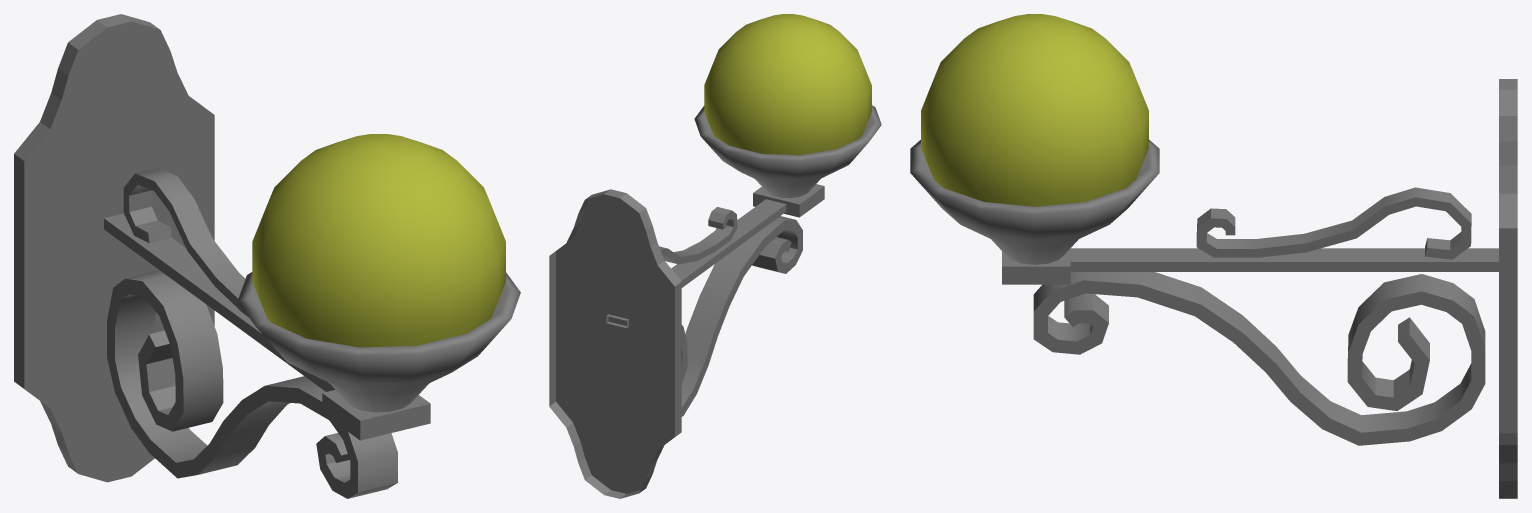
File: SM_lamp_wall_04.fbx
The picture shows the model from 3 angles, left to right: view 1: azimuth 30°, elevation 25°; view 2: azimuth 150°, elevation 25°; view 3: azimuth 270°, elevation 25°; orthographic projection. The views are drawn at different scales.
Visible parts, largest first — view 1: Plane056; view 2: Plane056; view 3: Plane056.
Boxes of the visible parts, x1,y1,x2,y2 form: Plane056: [14, 14, 520, 498]; Plane056: [549, 14, 881, 498]; Plane056: [910, 14, 1517, 498].
Bounding box in the file's own units: 16.44 × 33.34 × 39.03.
